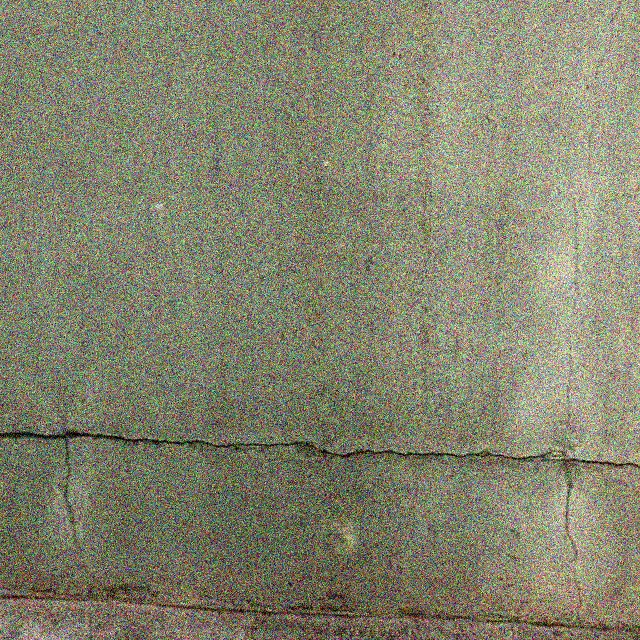SurfaceCrack: (1, 395, 639, 484)
